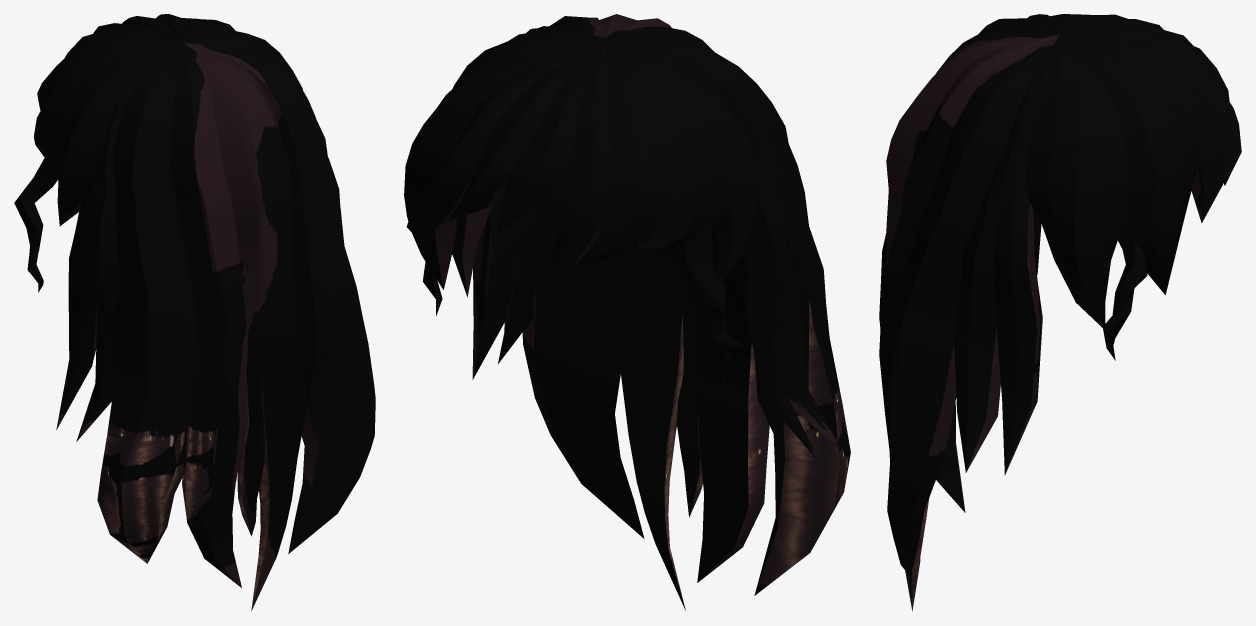
File: hair-05-fixed.fbx
3 renders of one model, left to right at view 1: azimuth 30°, elevation 25°; view 2: azimuth 150°, elevation 25°; view 3: azimuth 270°, elevation 25°, orthographic. The views are drawn at different scales.
Visible parts, largest first — view 1: hair5; view 2: hair5; view 3: hair5.
Part boxes in pixels (x1,y1,x2,y2): hair5: (14,14,375,610); hair5: (404,14,850,610); hair5: (879,14,1241,611).
Size of the model in its own units: 162 by 280 by 159.
